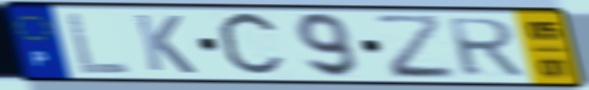9: (290, 11, 363, 80)
C: (214, 8, 289, 81)
K: (131, 12, 200, 76)
L: (63, 10, 134, 76)
R: (443, 16, 528, 79)
Z: (370, 13, 462, 81)
